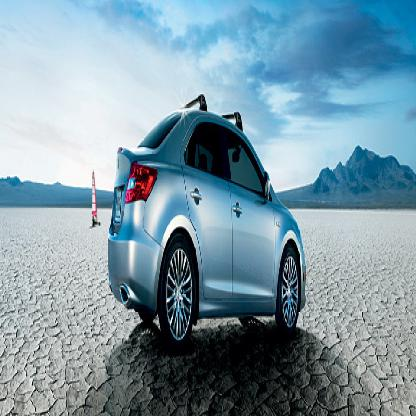Vehicle: (104, 92, 304, 352)
